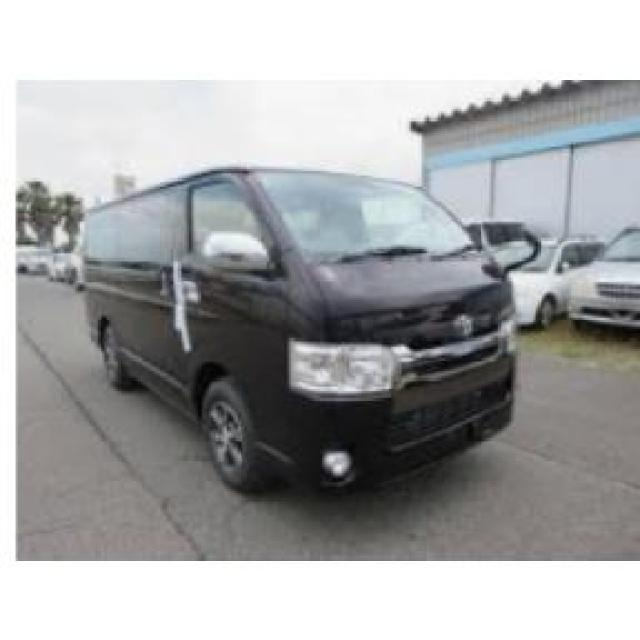Van: (70, 157, 526, 508)
